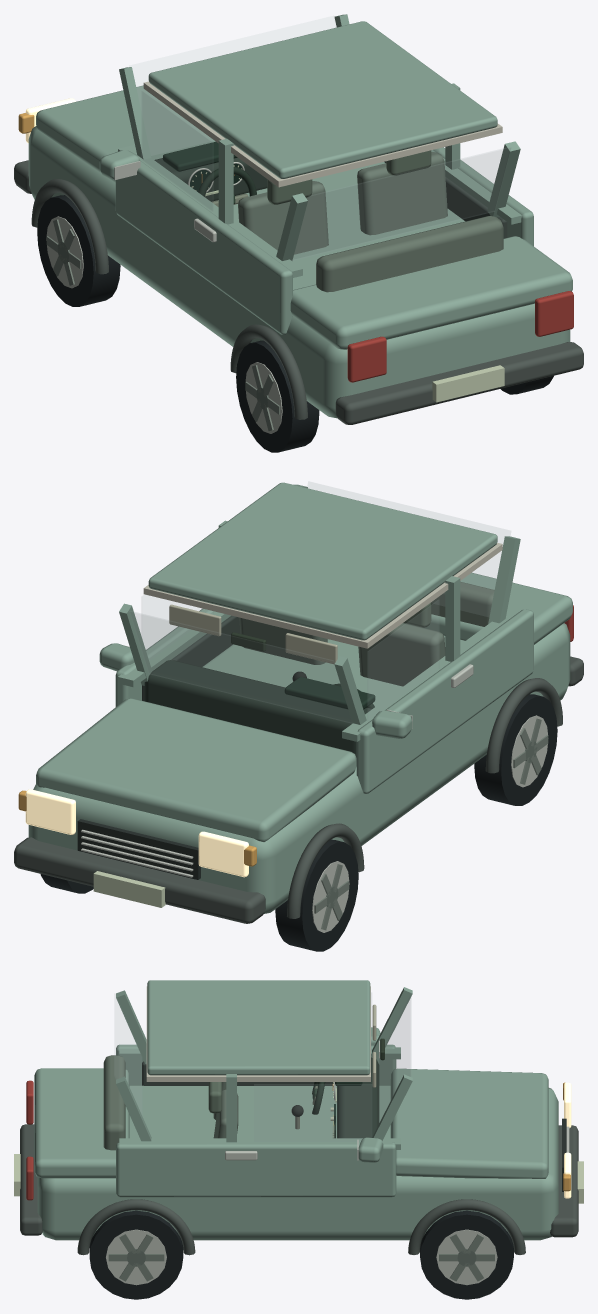
Rendered from juniper-82-compact.glb.
The picture shows the model from 3 angles, top to bottom: view 1: azimuth 30°, elevation 25°; view 2: azimuth 150°, elevation 25°; view 3: azimuth 270°, elevation 25°; orthographic projection. The views are drawn at different scales.
Visible parts, largest first — view 1: Juniper 82 compact; view 2: Juniper 82 compact; view 3: Juniper 82 compact.
Part boxes in pixels (<box>): Juniper 82 compact: <box>14,14,583,452</box>; Juniper 82 compact: <box>14,482,583,951</box>; Juniper 82 compact: <box>14,980,583,1299</box>.
Size of the model in its own units: 2.16 by 1.81 by 4.19.
